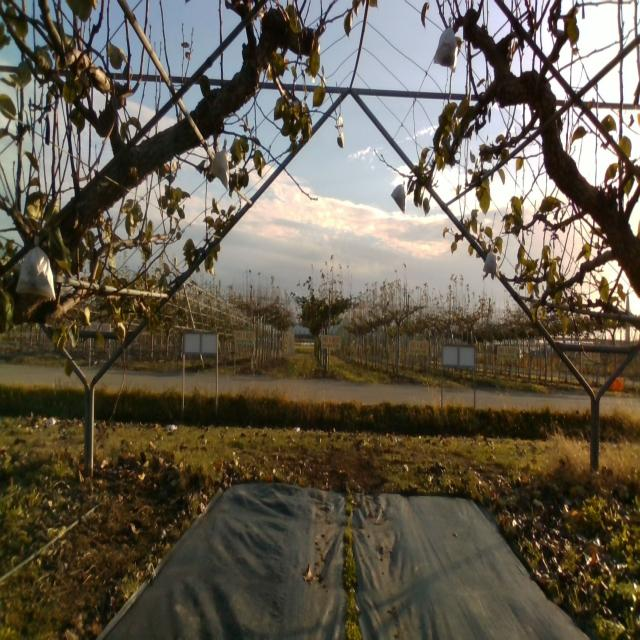pearbags: (16, 233, 58, 299), (433, 17, 458, 70), (210, 136, 229, 188), (483, 246, 500, 277), (390, 186, 406, 213)
